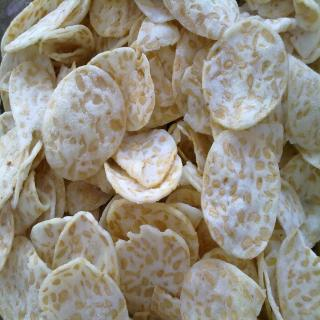Tempe: (201, 129, 282, 260), (87, 47, 157, 133), (39, 258, 130, 320), (180, 258, 268, 320), (112, 129, 179, 190)
